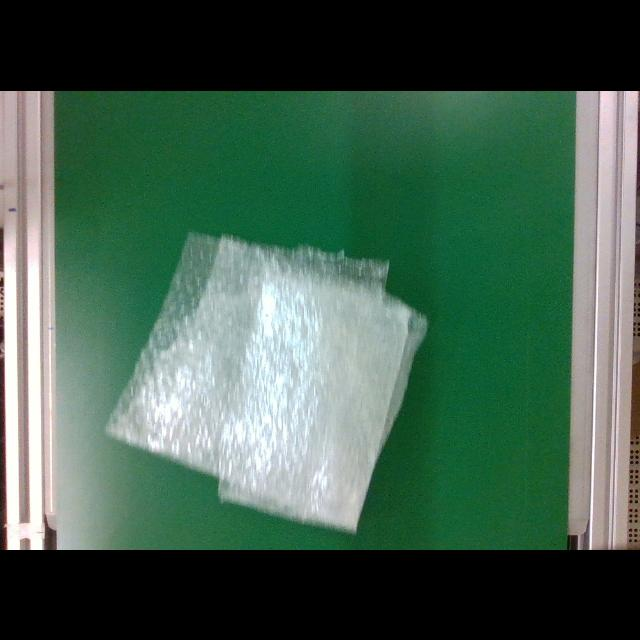scrap_plastic: (108, 226, 428, 534)
